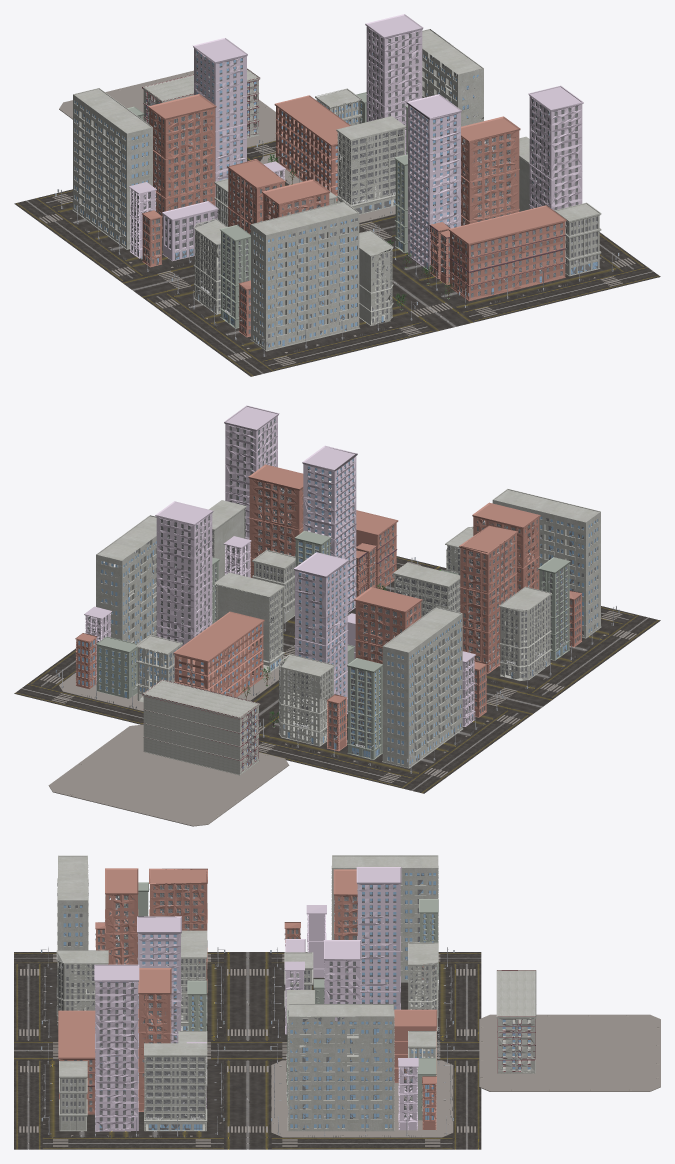
File: skyline_town.glb
The picture shows the model from 3 angles, top to bottom: view 1: azimuth 30°, elevation 25°; view 2: azimuth 150°, elevation 25°; view 3: azimuth 270°, elevation 25°; orthographic projection.
Parts seen in each view (by area): view 1: WRAP; view 2: WRAP; view 3: WRAP.
Part boxes in pixels (x1,y1,x2,y2): WRAP: (14, 14, 660, 376); WRAP: (14, 405, 660, 826); WRAP: (14, 855, 660, 1149).
Bounding box in the file's own units: 3756 × 1351 × 5200.
Materials: 17 (2 with a texture image).
